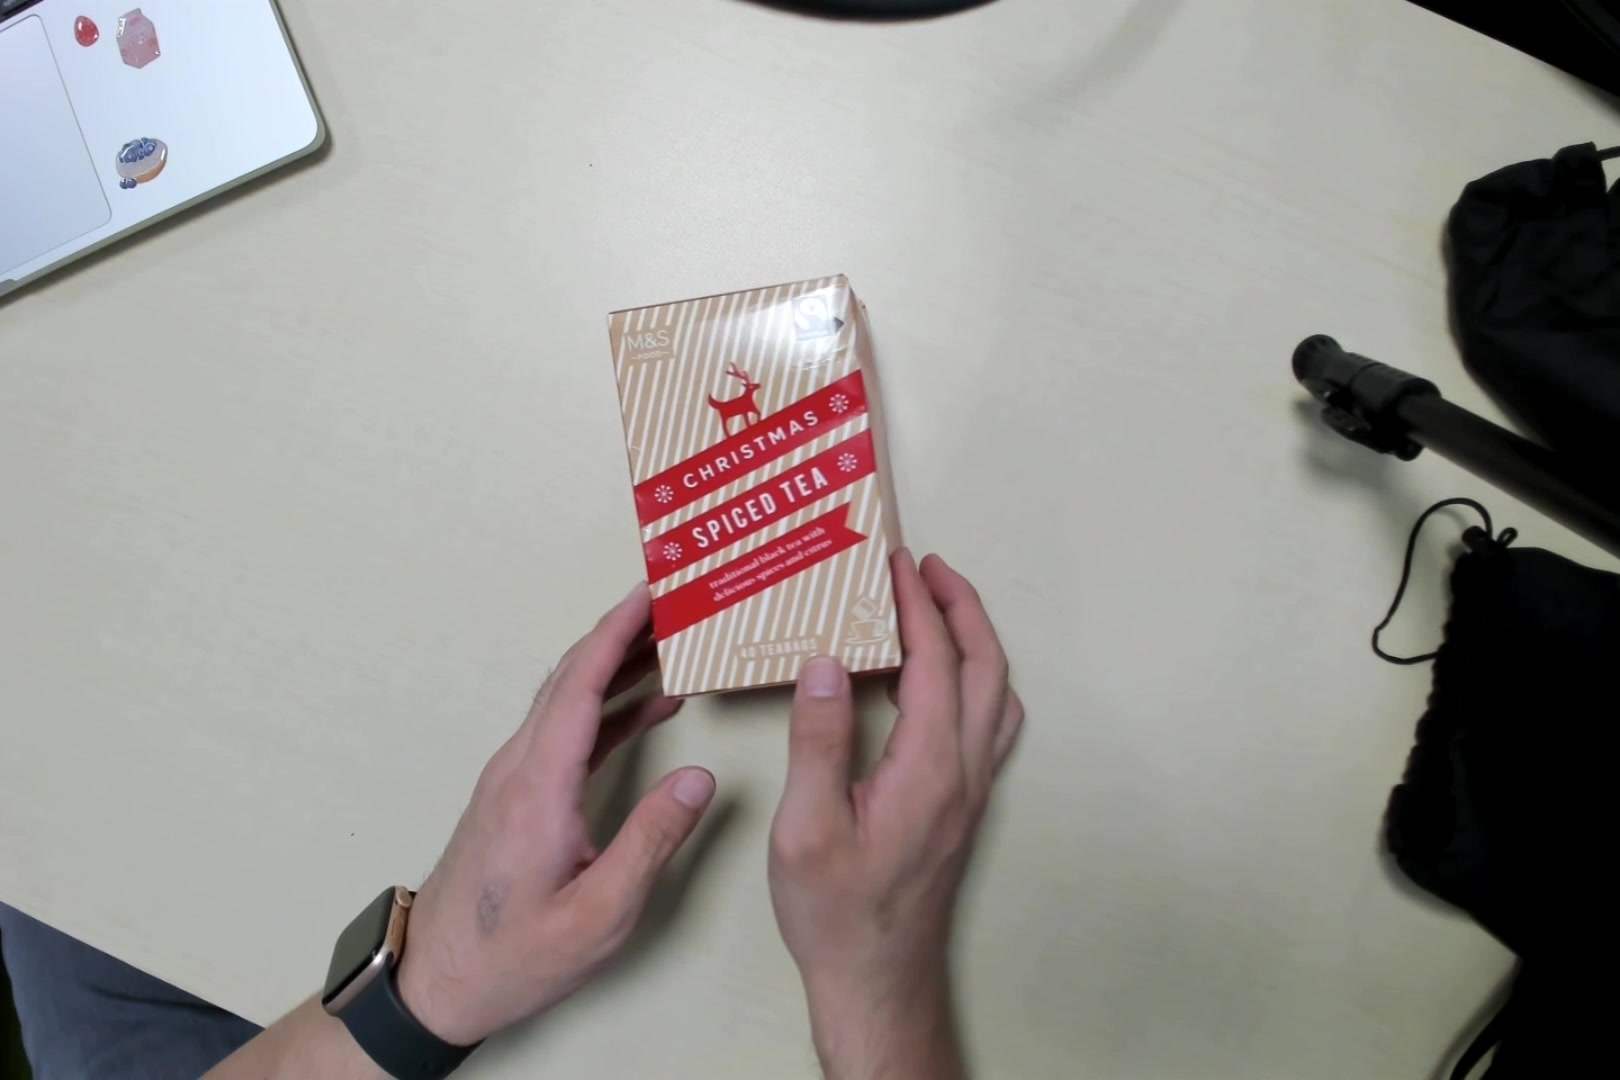Tea(PowderLeaves)_100-199g_Halal_NonHealthy: (595, 277, 914, 682)
